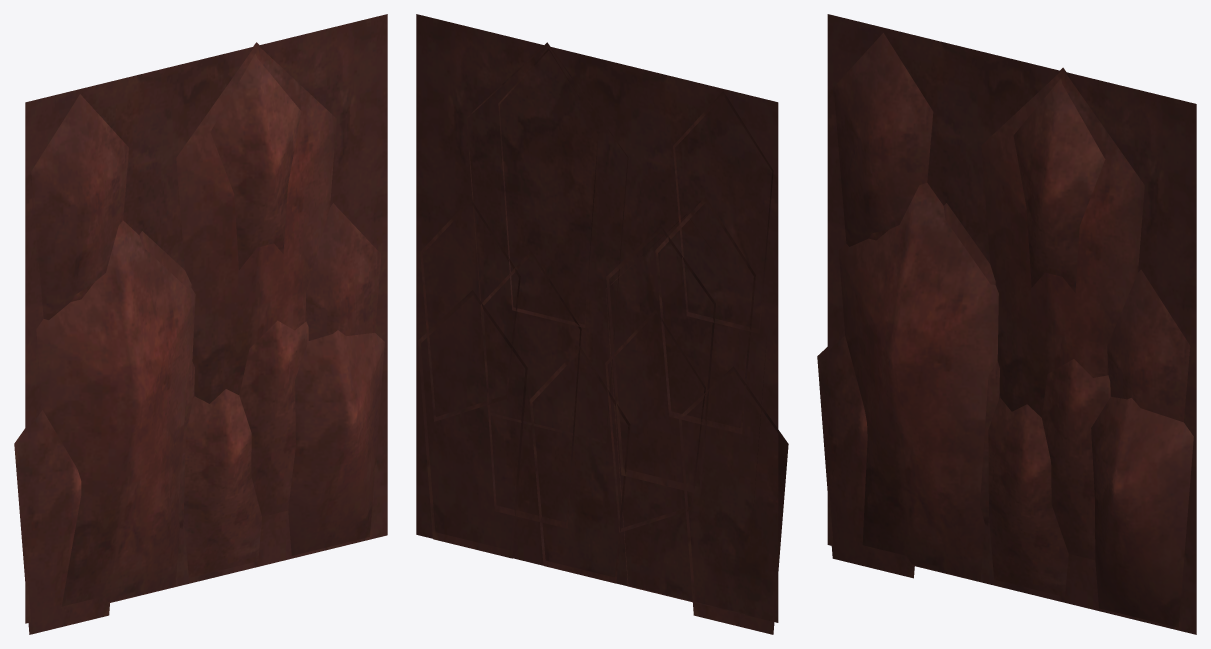
File: lava_wall_straight_02.fbx
3 renders of one model, left to right at view 1: azimuth 30°, elevation 25°; view 2: azimuth 150°, elevation 25°; view 3: azimuth 330°, elevation 25°, orthographic.
Parts seen in each view (by area): view 1: lava_wall_straight_02-0; view 2: lava_wall_straight_02-0; view 3: lava_wall_straight_02-0.
Part boxes in pixels (x1,y1,x2,y2): lava_wall_straight_02-0: (14, 14, 387, 634); lava_wall_straight_02-0: (416, 14, 788, 634); lava_wall_straight_02-0: (817, 14, 1196, 634).
Size of the model in its own units: 4.12 by 5.67 by 0.5154.
